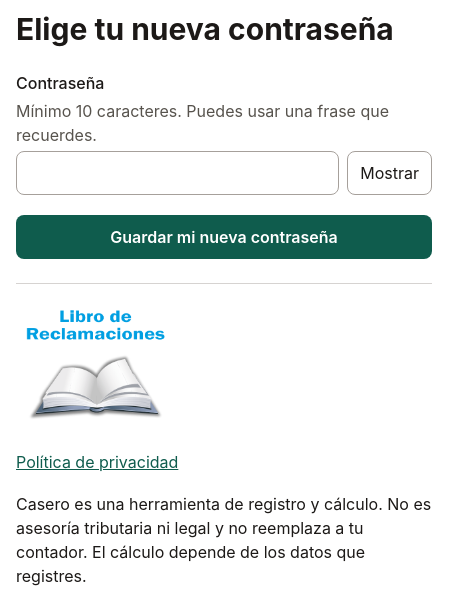
Scenario: password recovery › asks for a new link when the token expired
The width and height of the screenshot is (449, 603).
In the password field labelled "Contraseña": (178, 173) [16,151,339,195], type "otra clave bien larga"
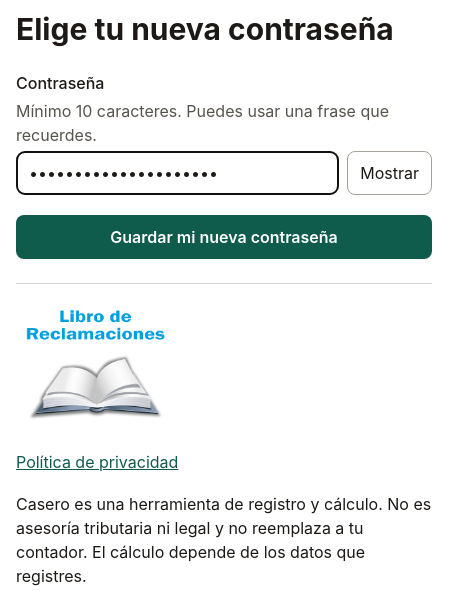
Click the button "Guardar mi nueva contraseña": (224, 237) [16,215,432,259]
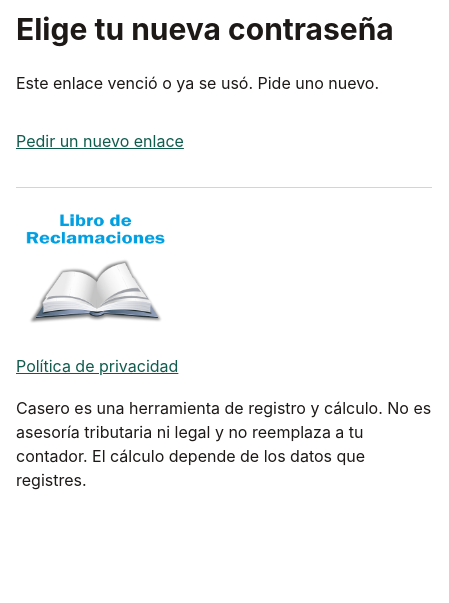
Result: the message shows "venció o ya se usó" at [16,73,379,93]
Result: the link "Pedir un nuevo enlace" is shown at [16,131,184,151]
